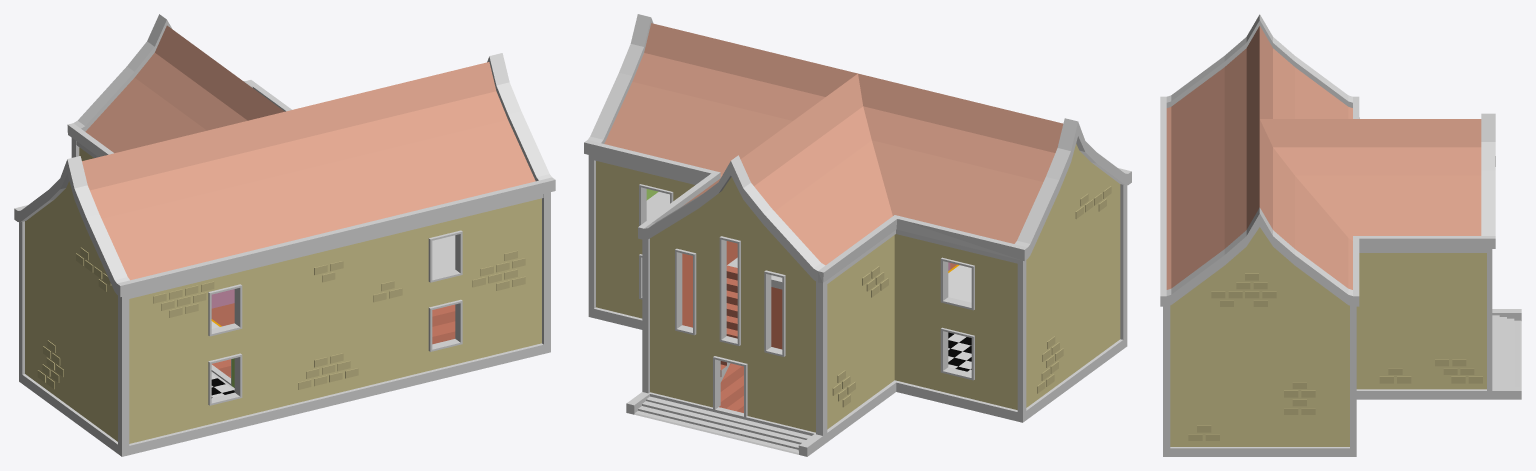
File: Mansion3.fbx
3 views of the same model, side by side, from view 1: azimuth 30°, elevation 25°; view 2: azimuth 150°, elevation 25°; view 3: azimuth 270°, elevation 25° (orthographic). The views are drawn at different scales.
Parts seen in each view (by area): view 1: Mansion3; view 2: Mansion3; view 3: Mansion3.
Part boxes in pixels (<box>): Mansion3: <box>14,14,555,456</box>; Mansion3: <box>584,14,1131,456</box>; Mansion3: <box>1160,14,1521,456</box>.
Size of the model in its own units: 19.73 by 15.12 by 11.3.
